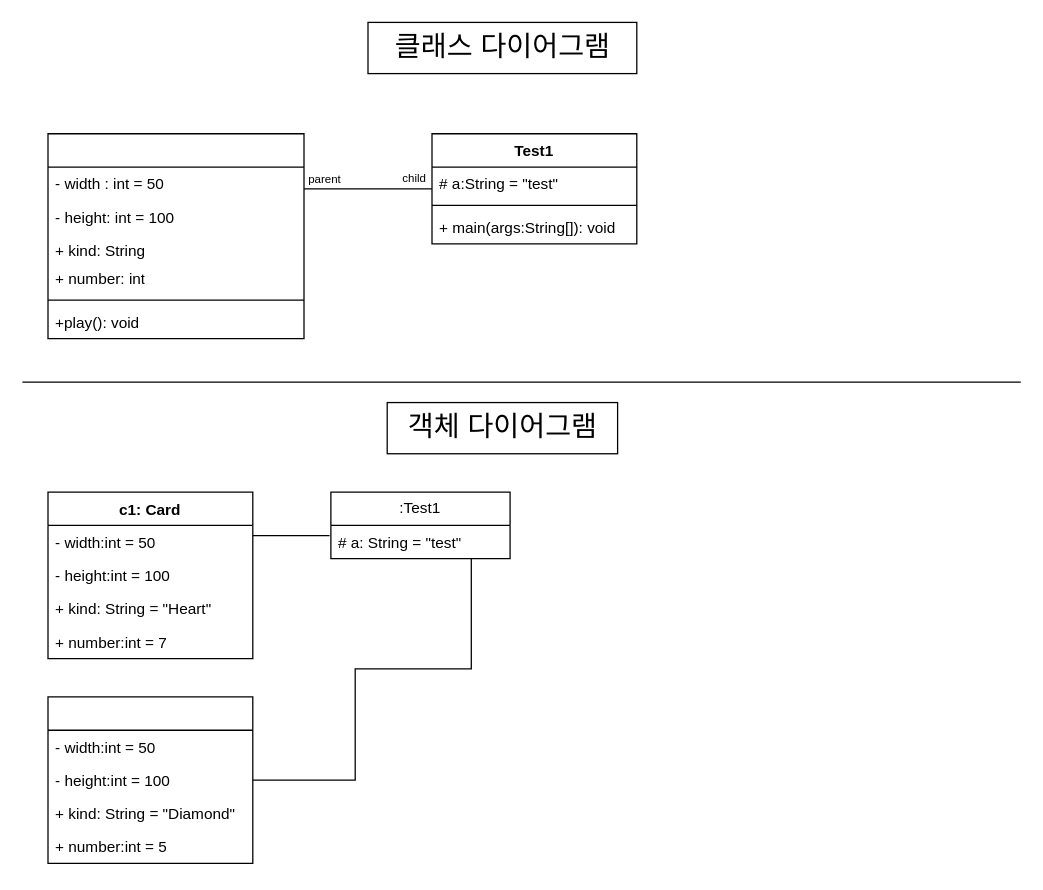
Some shapes in this 1043 by 890 pixel diagram are drawn without their labels. Here are the shapes that lost their labels. From the top down, the box of each, then its label:
(47, 132, 304, 339): Card
(47, 696, 253, 863): c2: Card
